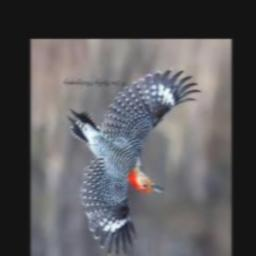Woodpecker: (67, 68, 201, 256)
